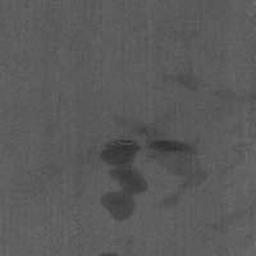Oil spot: (72, 111, 211, 224), (145, 68, 201, 93), (99, 239, 142, 256)
